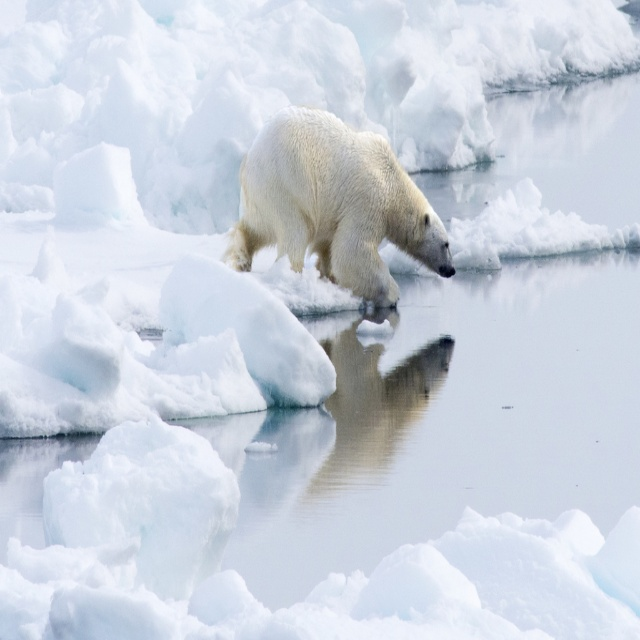Polar bear: (223, 102, 454, 308)
